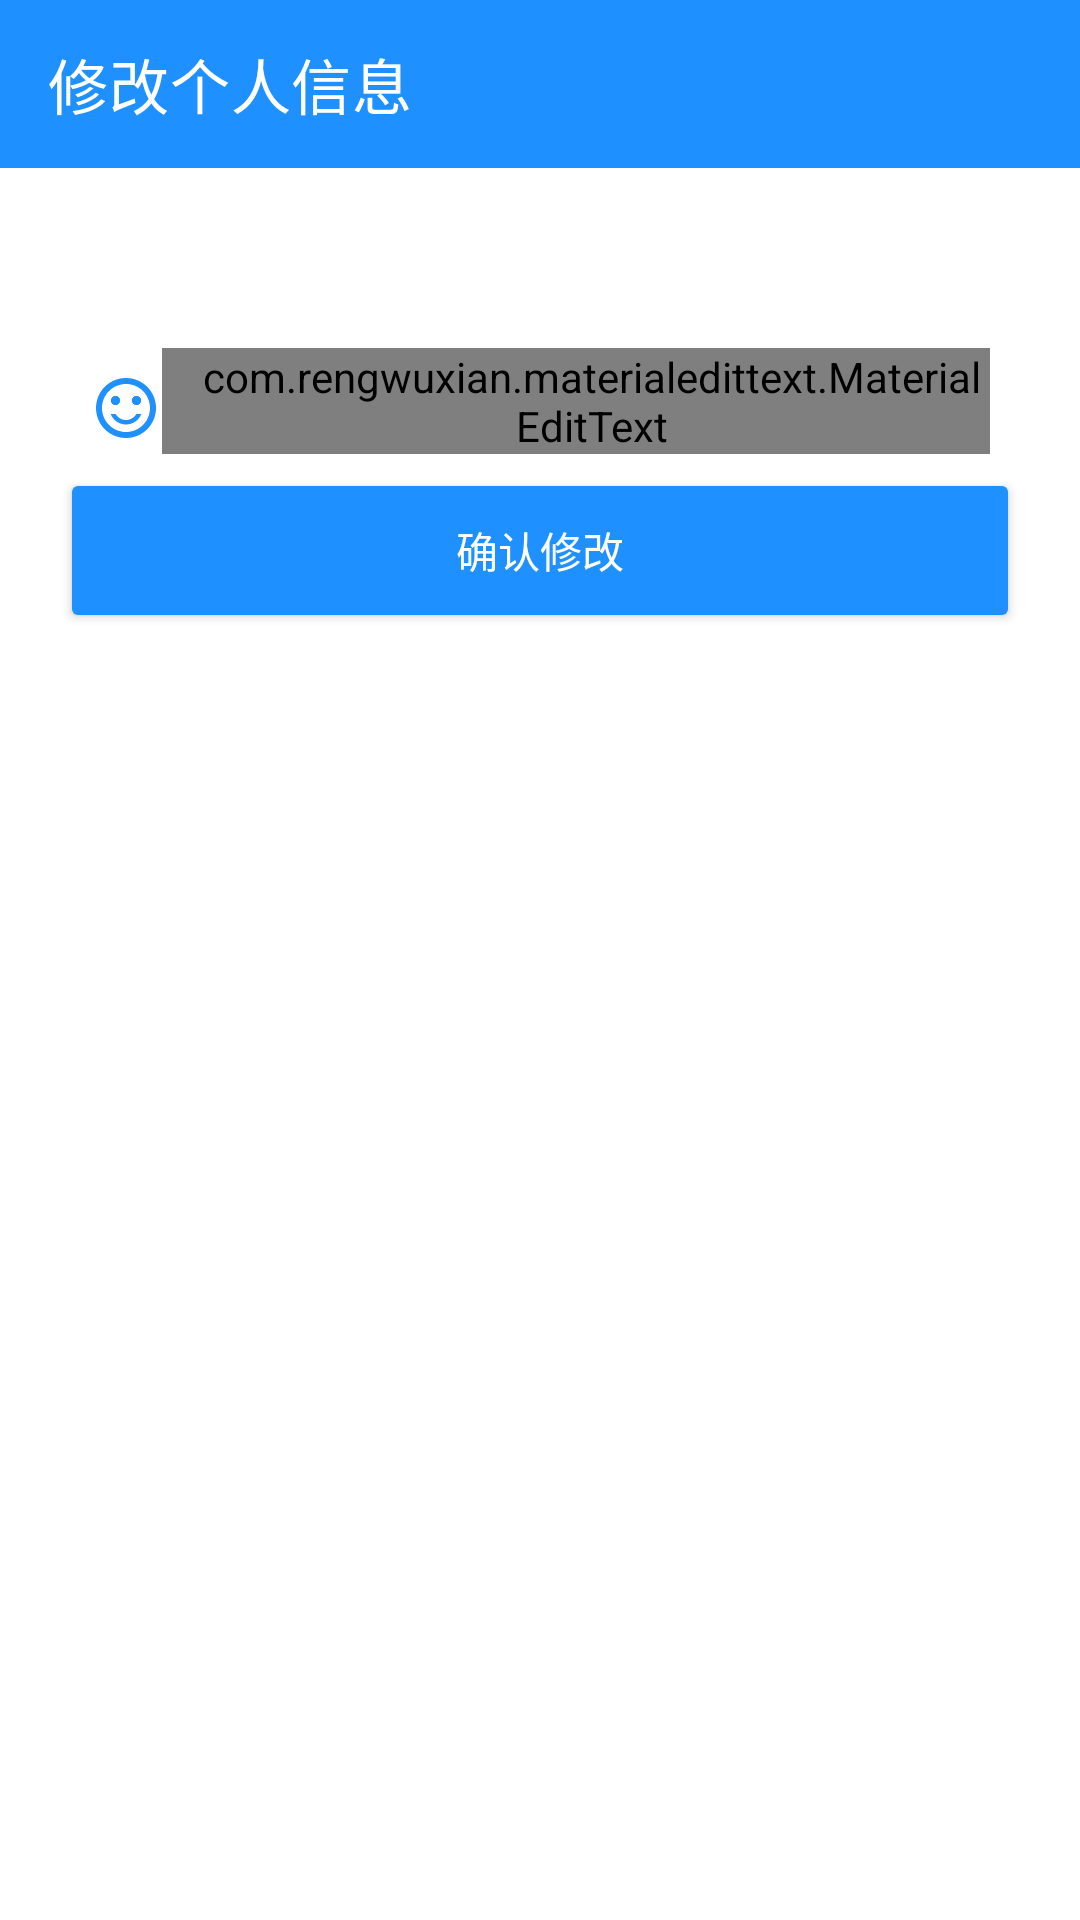

Where to tap for icons on this 1080 × 1920 app screen, as (x=x, y=y):
sentiment satisfied: (x=126, y=408)
